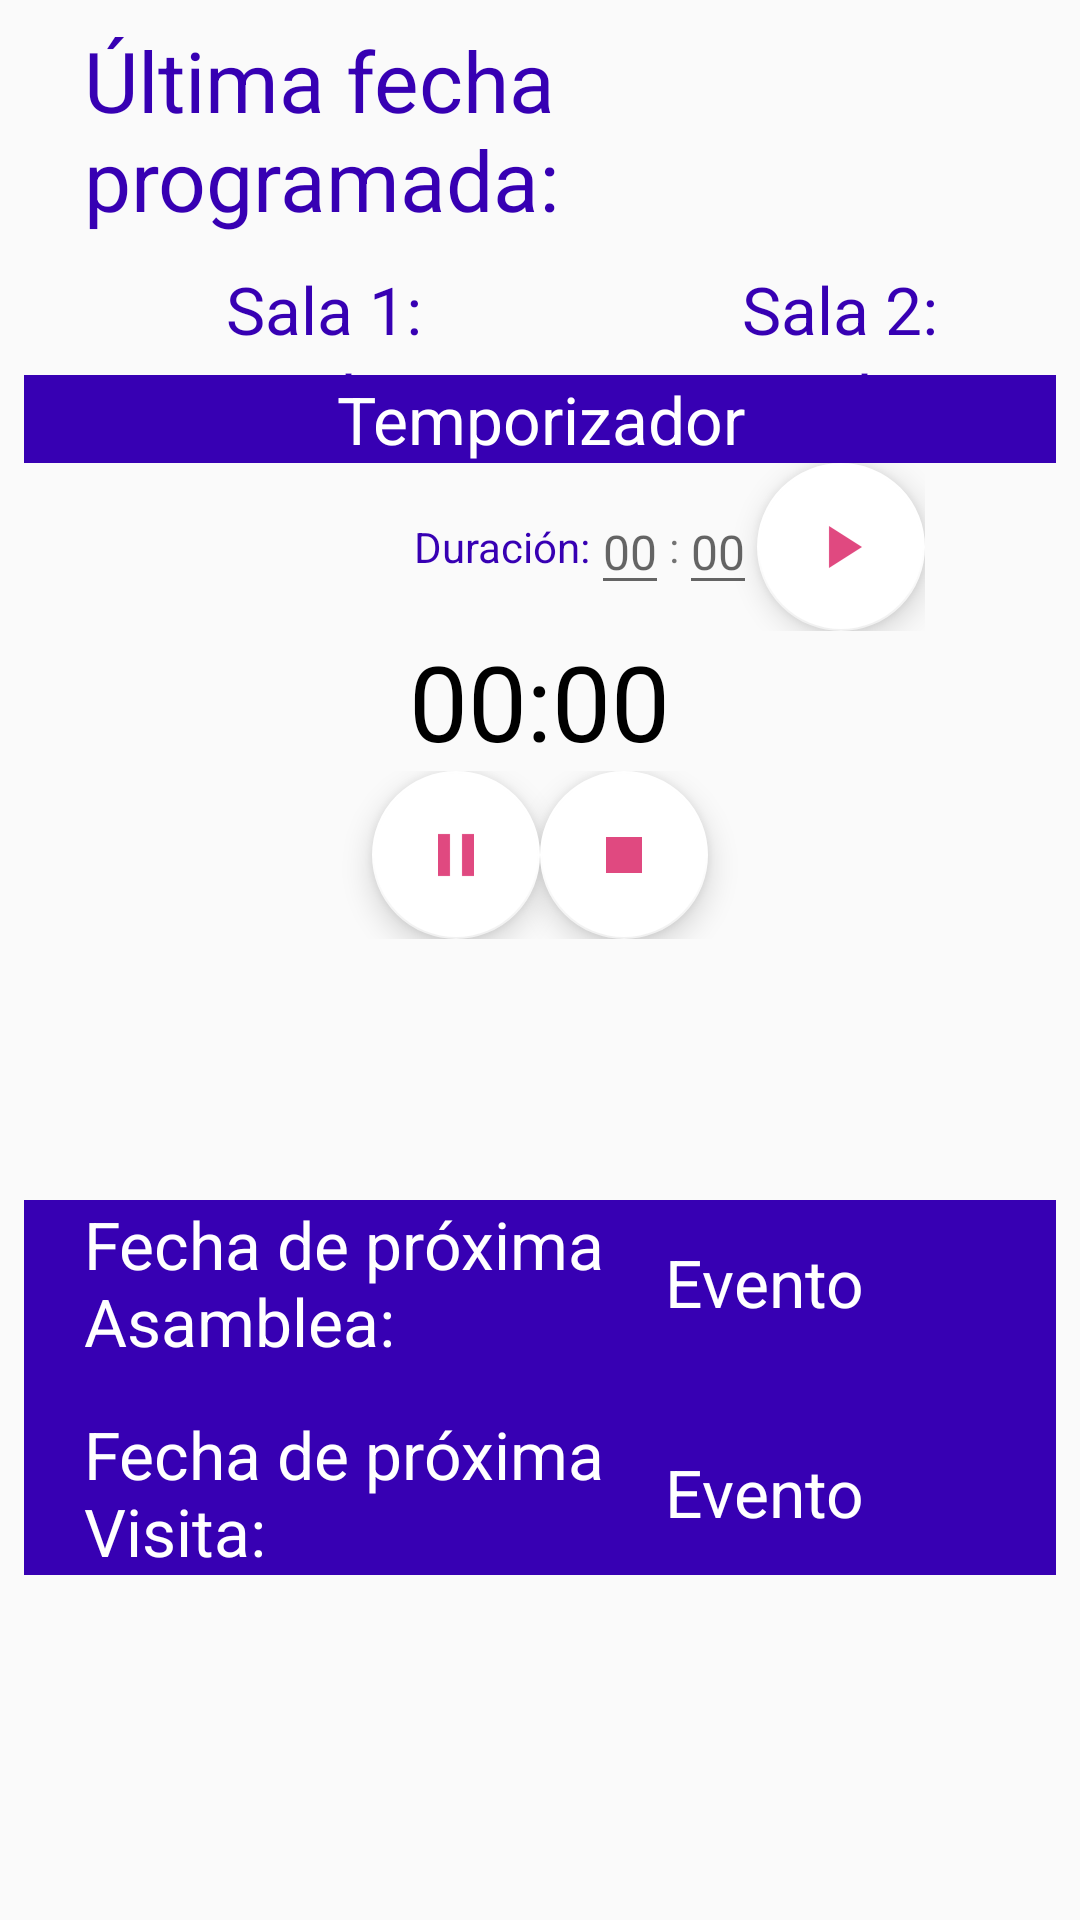

Screen size 1080 x 1920. Icon name, then its center in pixels as point (x, y):
pause: point (456, 882)
play: point (841, 547)
stop: point (624, 882)
